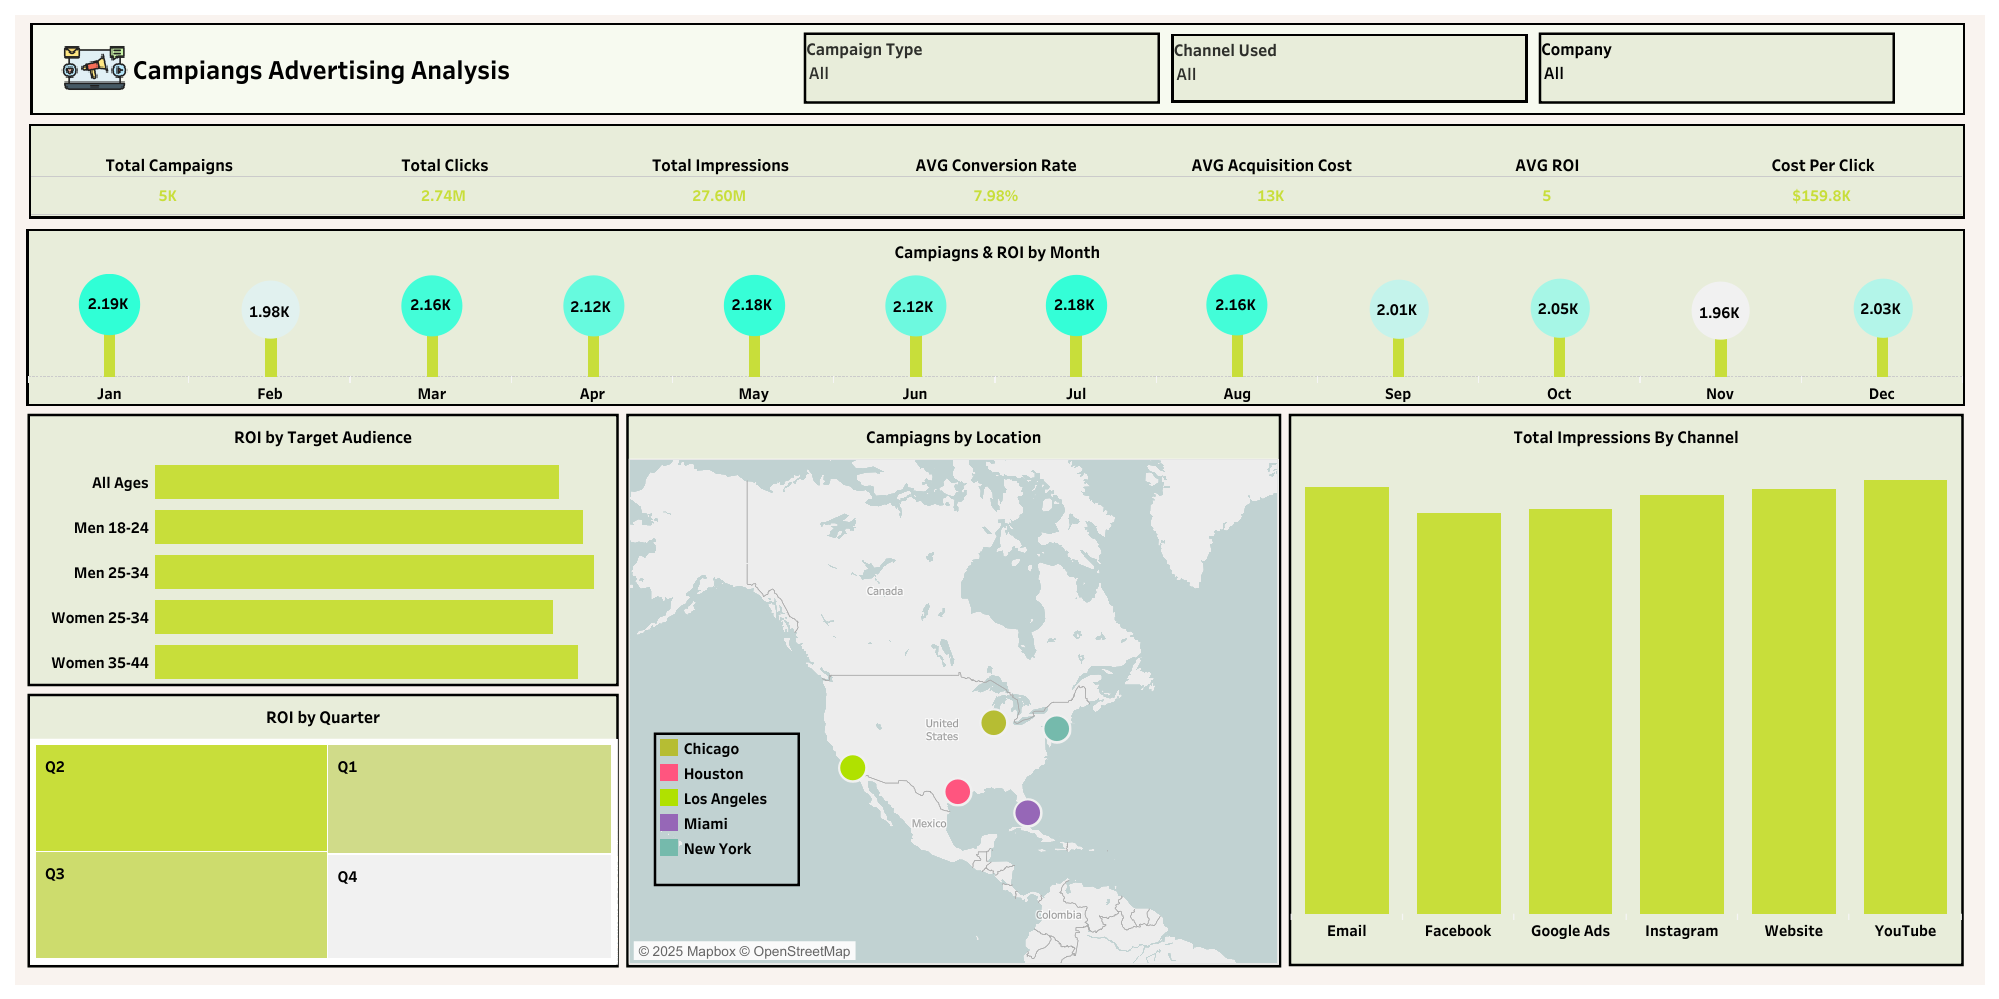

What the dashboard file says about the page in this screenshot:
{"tool":"tableau","page":{"name":"Overview & ROI","canvas":[1600,800],"ordinal":1},"visuals":[{"type":"text","box":[24,18,1548,74]},{"type":"image","param":"Image/Icon.png","box":[28,26,95,57]},{"type":"filter","title":"Campiagns by Location","param":"[federated.1rvgeg700de6sn1fkjduq035zcuh].[none:Campaign_Type:nk]","box":[643,26,285,57]},{"type":"filter","title":"Campiagns by Location","param":"[federated.1rvgeg700de6sn1fkjduq035zcuh].[none:Company:nk]","box":[1231,26,285,57]},{"type":"filter","title":"Campiagns by Location","param":"[federated.1rvgeg700de6sn1fkjduq035zcuh].[none:Channel_Used:nk]","box":[937,27,285,55]},{"type":"worksheet","title":"KPIs","mark":"Automatic","box":[23,99,1549,76]},{"type":"worksheet","title":"Total Campiagns by Month","mark":"Bar","rows":["Calculation_720294475599126528","ROI"],"cols":["Date"],"box":[21,183,1551,142]},{"type":"worksheet","title":"ROI of Target Audience","mark":"Automatic","rows":["Target_Audience"],"cols":["ROI"],"box":[22,331,473,218]},{"type":"worksheet","title":"Campiagns by Location","mark":"Automatic","box":[501,331,524,443]},{"type":"worksheet","title":"Impressions By Channels","mark":"Bar","rows":["Calculation_720294475600179201"],"cols":["Channel_Used"],"box":[1031,331,540,442]},{"type":"worksheet","title":"ROI of Quarters","mark":"Automatic","box":[22,555,473,219]},{"type":"legend","title":"Campiagns by Location","param":"[federated.1rvgeg700de6sn1fkjduq035zcuh].[none:Location:nk]","box":[523,586,117,123]}]}

Visuals, with their boxes in screenshot pixels (x1, y1, x2, y2), scaled from the page's 1600x800 canvas onto the 1999x999 screenshot:
text: x1=30 y1=22 x2=1964 y2=115
image: x1=35 y1=32 x2=154 y2=104
"Campiagns by Location" filter: x1=803 y1=32 x2=1159 y2=104
"Campiagns by Location" filter: x1=1538 y1=32 x2=1894 y2=104
"Campiagns by Location" filter: x1=1171 y1=34 x2=1527 y2=102
"KPIs" worksheet: x1=29 y1=124 x2=1964 y2=219
"Total Campiagns by Month" worksheet (Bar marks): x1=26 y1=229 x2=1964 y2=406
"ROI of Target Audience" worksheet: x1=27 y1=413 x2=618 y2=686
"Campiagns by Location" worksheet: x1=626 y1=413 x2=1281 y2=967
"Impressions By Channels" worksheet (Bar marks): x1=1288 y1=413 x2=1963 y2=965
"ROI of Quarters" worksheet: x1=27 y1=693 x2=618 y2=967
"Campiagns by Location" legend: x1=653 y1=732 x2=800 y2=885
